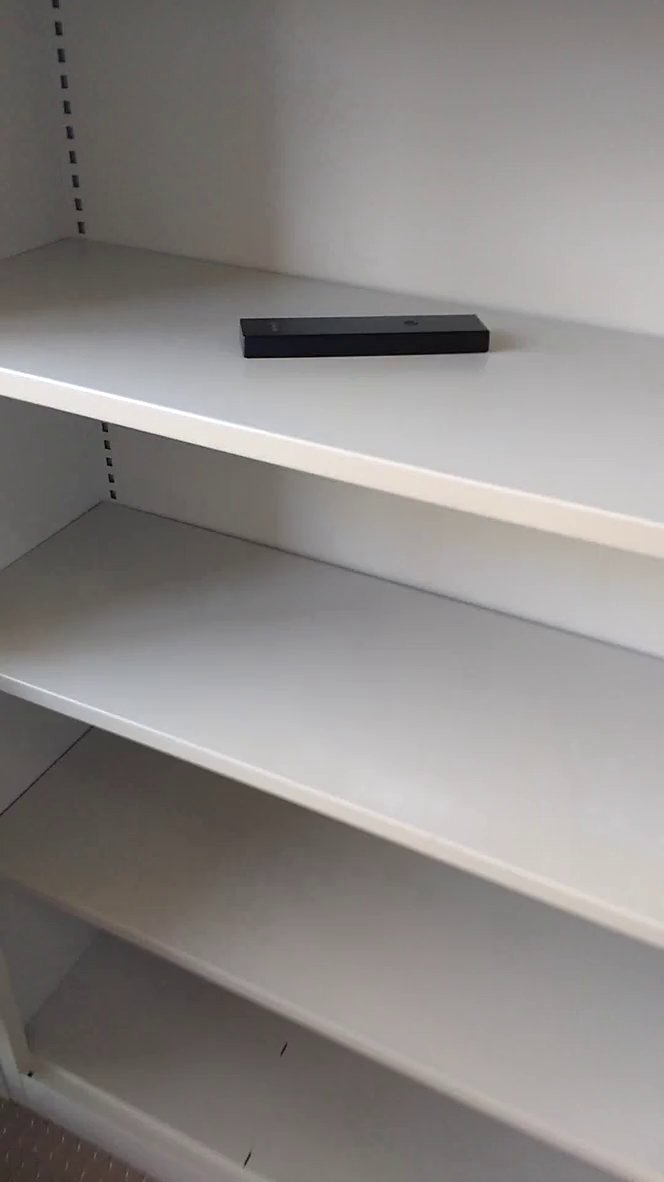remote: (224, 287, 499, 370)
